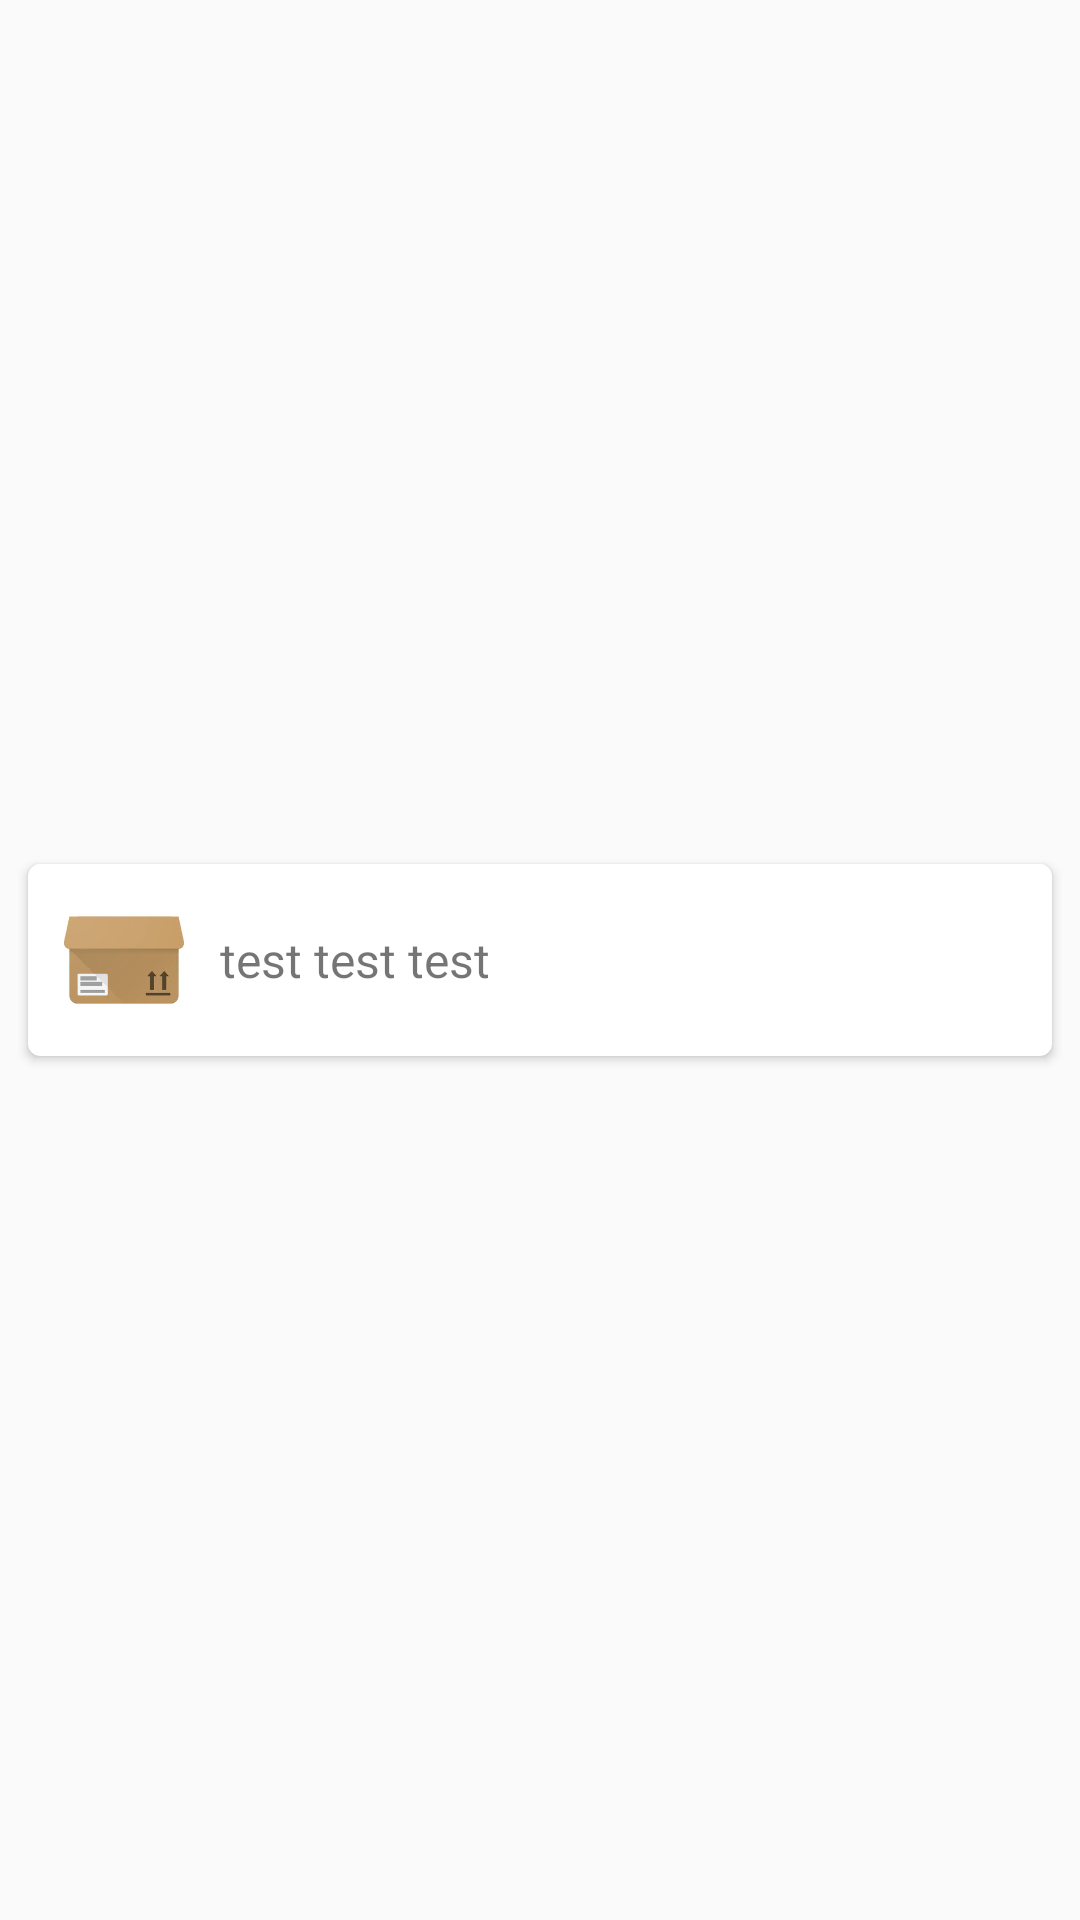

Icon bounding boxes for this 1080x1920 phone screenshot, format (x1, y1, x2, y2):
parcel: (64, 916, 184, 1004)
